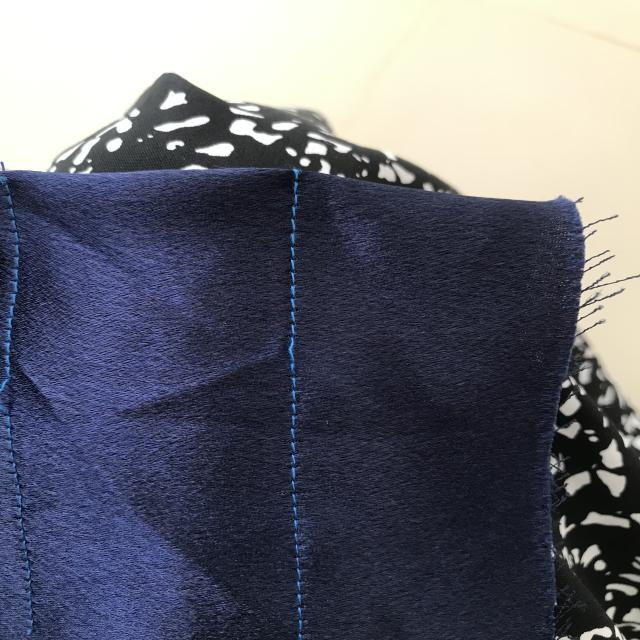good: (287, 409, 314, 572), (277, 198, 314, 308)
skip: (279, 326, 312, 377)
